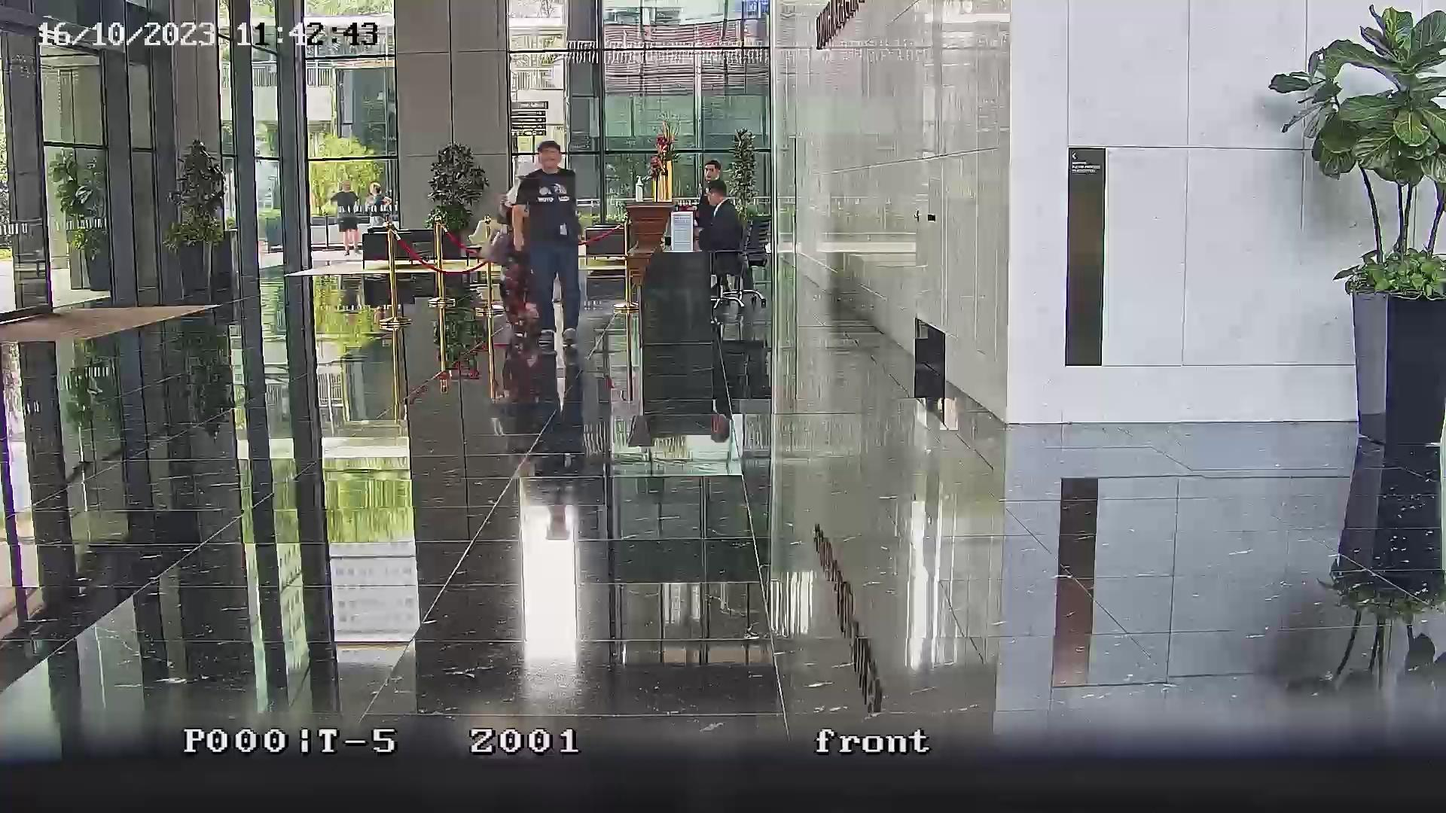person: (503, 139, 584, 349), (701, 180, 743, 268), (331, 178, 364, 257), (697, 160, 723, 227), (367, 181, 391, 229)
